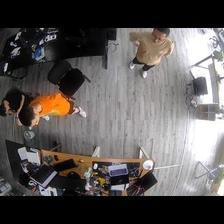normal: (128, 28, 175, 81), (22, 92, 89, 126)
